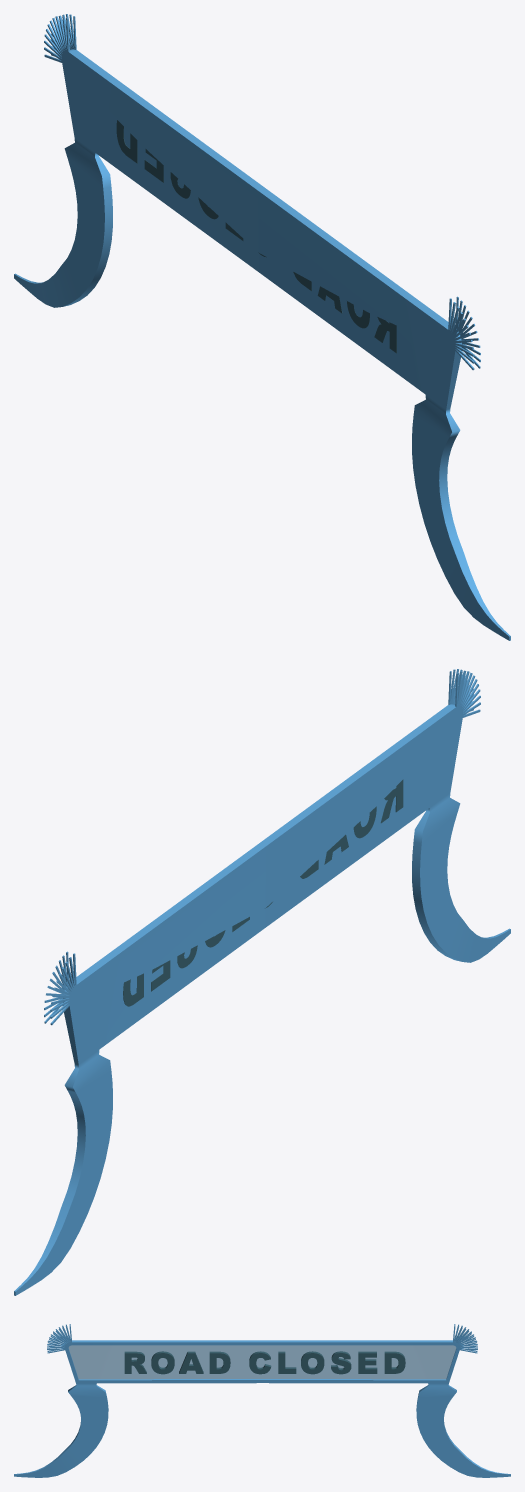
Rendered from RoadClosed.fbx.
3 views of the same model, one above another, from view 1: azimuth 30°, elevation 25°; view 2: azimuth 150°, elevation 25°; view 3: azimuth 270°, elevation 25° (orthographic). The views are drawn at different scales.
Visible parts, largest first — view 1: RoadClosedSign, text; view 2: RoadClosedSign, text; view 3: RoadClosedSign, text.
Part boxes in pixels (x1=…): RoadClosedSign: x1=14, y1=14, x2=510, y2=640; text: x1=116, y1=120, x2=396, y2=353; RoadClosedSign: x1=14, y1=669, x2=510, y2=1295; text: x1=123, y1=779, x2=403, y2=1006; RoadClosedSign: x1=14, y1=1324, x2=510, y2=1477; text: x1=124, y1=1351, x2=405, y2=1374.
Size of the model in its own units: 0.1337 by 3.75 by 11.09.
